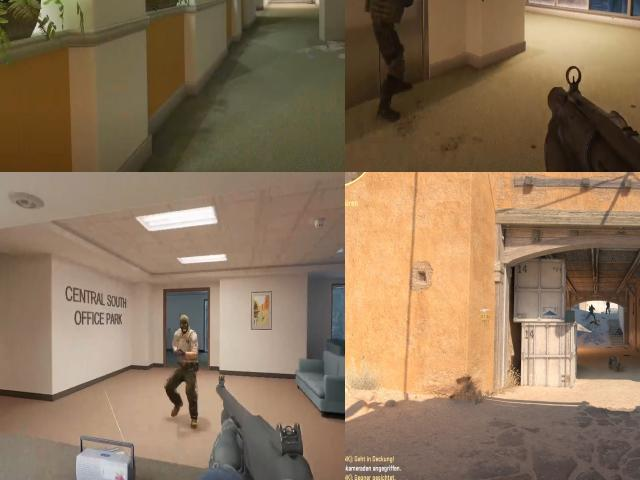CT: (366, 0, 413, 53), (586, 304, 596, 320), (606, 302, 610, 314)
CT-Head: (591, 305, 593, 307)
Dead: (609, 354, 622, 370), (590, 318, 600, 325), (616, 327, 624, 335)
T-Head: (168, 308, 206, 390), (174, 313, 196, 338)
